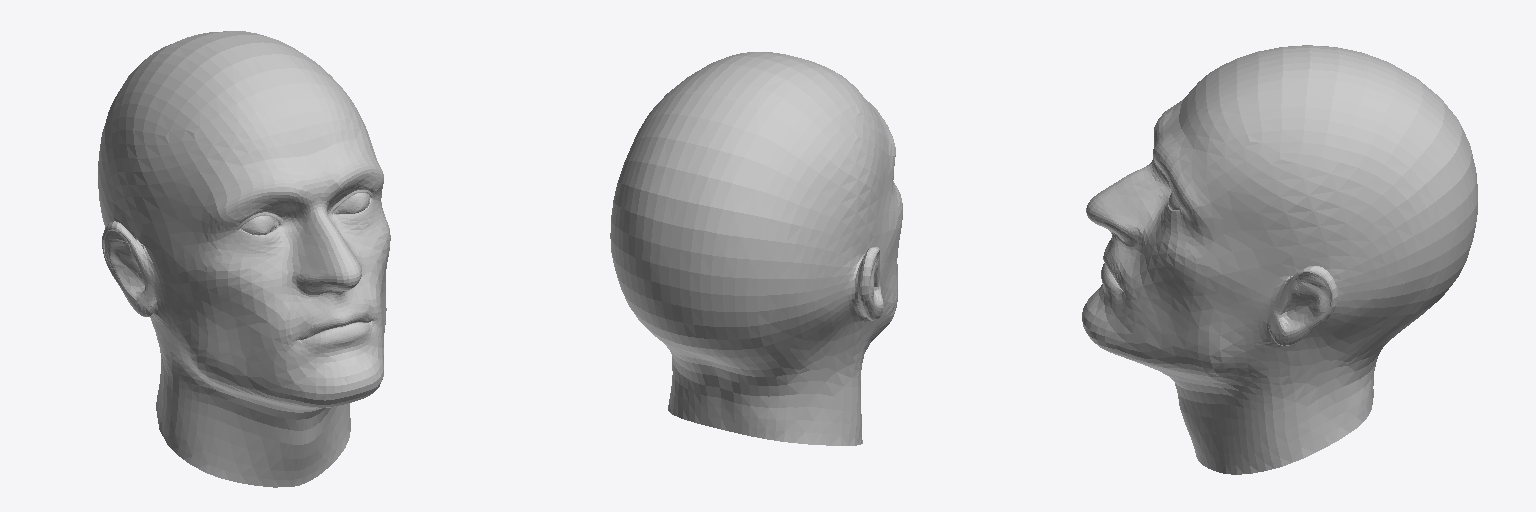
3 renders of one model, left to right at view 1: azimuth 30°, elevation 25°; view 2: azimuth 150°, elevation 25°; view 3: azimuth 270°, elevation 25°, orthographic.
Visible parts, largest first — view 1: FaceGen; view 2: FaceGen; view 3: FaceGen.
Part boxes in pixels (x1,y1,x2,y2): FaceGen: (98,31,390,487); FaceGen: (610,52,902,445); FaceGen: (1082,45,1477,474).
Size of the model in its own units: 186 by 277 by 250.